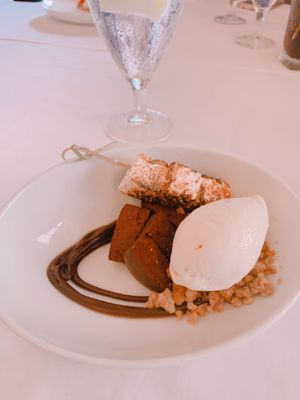burger: (278, 0, 300, 70)
curry: (1, 6, 300, 400)
sandwich: (86, 0, 183, 144), (234, 0, 280, 49), (213, 0, 246, 25)
